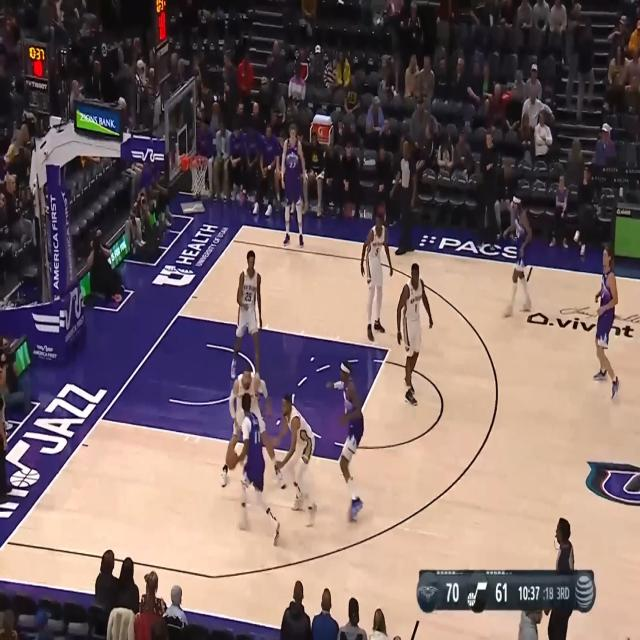Ball: (226, 446, 238, 472)
Clock: (23, 41, 48, 80), (155, 0, 167, 48)
Hoop: (188, 156, 208, 194)
Overlay: (416, 570, 596, 614)
Player: (229, 390, 282, 546), (222, 365, 287, 490), (326, 360, 364, 520), (274, 390, 316, 532), (398, 261, 433, 410), (230, 249, 264, 388), (359, 209, 394, 343), (593, 243, 621, 401), (502, 192, 534, 316), (279, 122, 309, 246)
Ref: (545, 518, 575, 640), (391, 139, 416, 257), (0, 365, 15, 502)
Scoreboard: (417, 570, 573, 613)
